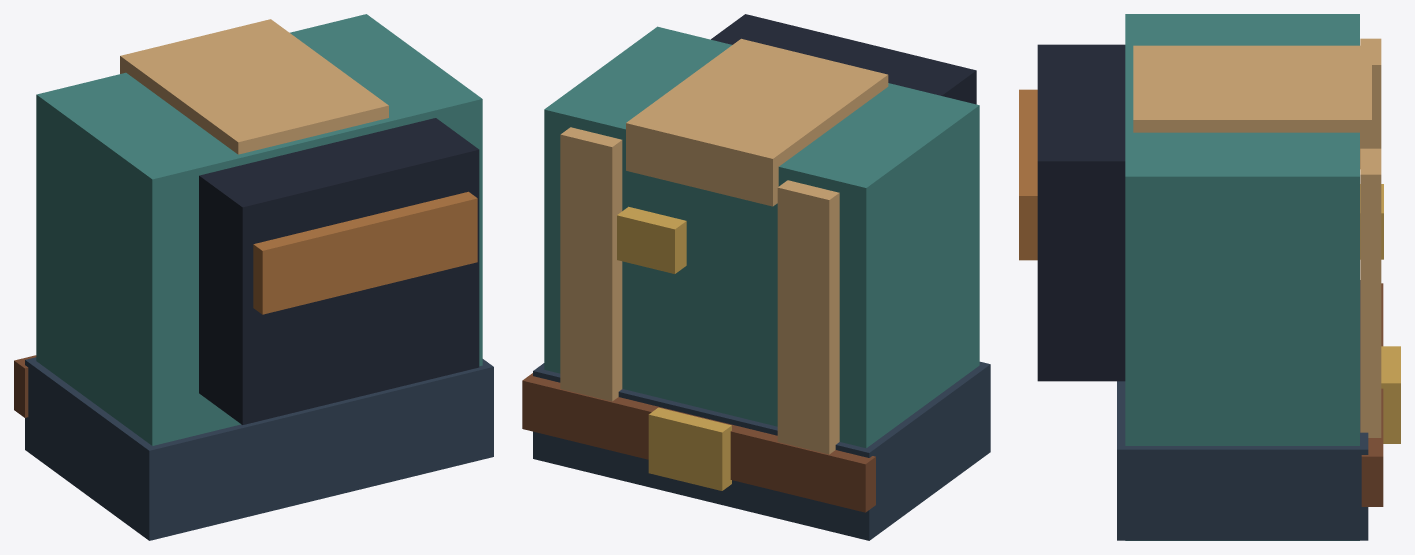
The model's file is torso.glb.
3 renders of one model, left to right at view 1: azimuth 30°, elevation 25°; view 2: azimuth 150°, elevation 25°; view 3: azimuth 270°, elevation 25°, orthographic. The views are drawn at different scales.
Size of the model in its own units: 0.49 by 0.4965 by 0.456.
Materials: 1 (1 with a texture image).
